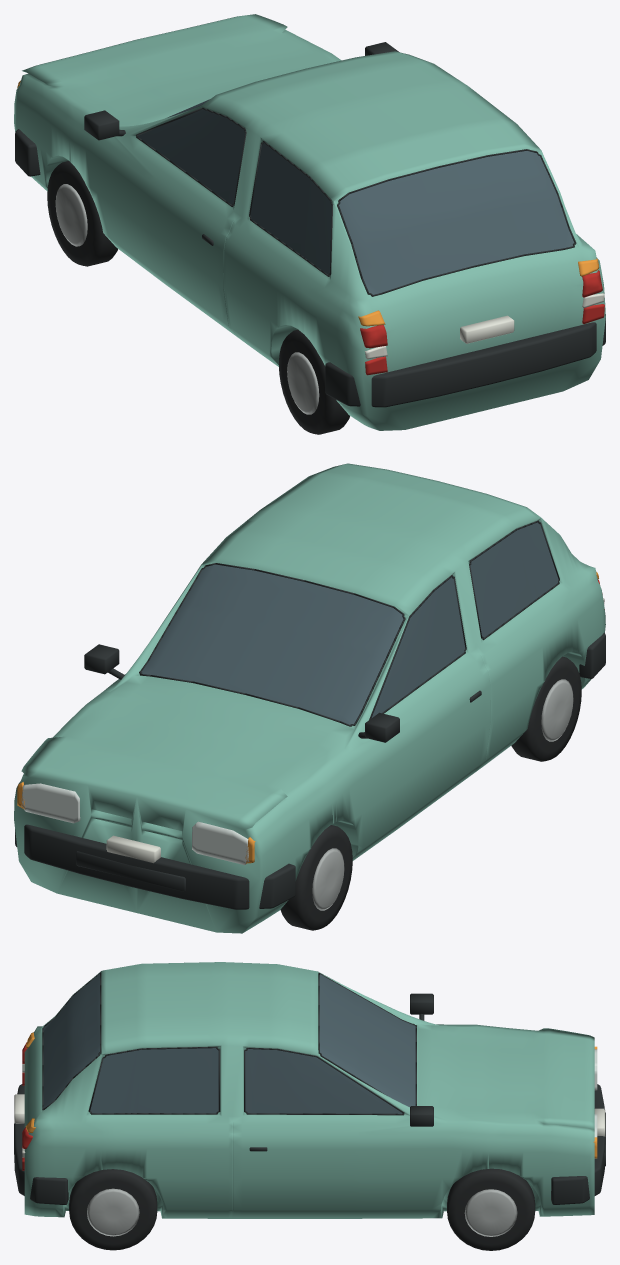
The model's file is micra-k11.glb.
3 renders of one model, top to bottom at view 1: azimuth 30°, elevation 25°; view 2: azimuth 150°, elevation 25°; view 3: azimuth 270°, elevation 25°, orthographic. The views are drawn at different scales.
Visible parts, largest first — view 1: body, glass_envelope, bumper_rear, wheel_fl, wheel_rl, trim_window_seals, lamp_taillights_red, trim_rim_rl, trim_rim_fl, mirror_housings, plate_registration, bumper_front (+1 smaller); view 2: body, glass_envelope, bumper_front, lamp_headlights, wheel_fl, trim_window_seals, wheel_rl, mirror_housings, grille_lower, trim_rim_rl, trim_rim_fl, plate_registration (+1 smaller); view 3: body, glass_envelope, wheel_fr, wheel_rr, trim_window_seals, trim_rim_fr, trim_rim_rr, bumper_front, bumper_rear, mirror_housings, plate_registration.
Boxes of the visible parts, box(x1,y1,x2,y2) form: body: box(14, 14, 605, 430); glass_envelope: box(138, 99, 574, 294); bumper_rear: box(325, 314, 605, 407); wheel_fl: box(47, 161, 117, 266); wheel_rl: box(278, 329, 349, 434); trim_window_seals: box(136, 105, 576, 296); lamp_taillights_red: box(360, 270, 604, 375); trim_rim_rl: box(287, 352, 319, 414); trim_rim_fl: box(55, 184, 87, 246); mirror_housings: box(84, 42, 399, 140); plate_registration: box(460, 315, 514, 343); bumper_front: box(15, 129, 40, 176); body: box(14, 463, 605, 933); glass_envelope: box(141, 522, 558, 724); bumper_front: box(15, 824, 295, 909); lamp_headlights: box(21, 783, 249, 865); wheel_fl: box(280, 825, 352, 930); trim_window_seals: box(139, 520, 559, 726); wheel_rl: box(511, 656, 581, 761); mirror_housings: box(84, 644, 399, 742); grille_lower: box(76, 851, 185, 891); trim_rim_rl: box(541, 679, 573, 741); trim_rim_fl: box(312, 848, 344, 910); plate_registration: box(106, 835, 160, 863); body: box(24, 962, 594, 1218); glass_envelope: box(43, 974, 415, 1113); wheel_fr: box(447, 1168, 535, 1250); wheel_rr: box(69, 1169, 157, 1250); trim_window_seals: box(42, 972, 416, 1115); trim_rim_fr: box(464, 1189, 517, 1236); trim_rim_rr: box(87, 1188, 139, 1236); bumper_front: box(551, 1084, 605, 1204); bumper_rear: box(14, 1084, 68, 1204); mirror_housings: box(410, 993, 433, 1126); plate_registration: box(14, 1094, 605, 1136).
Bounding box in the file's own units: 1.79 × 1.43 × 3.7.
